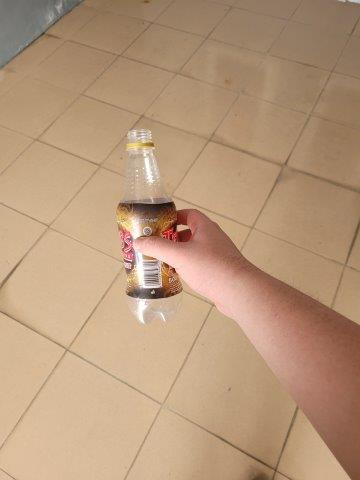botolplastik: (120, 129, 182, 324)
